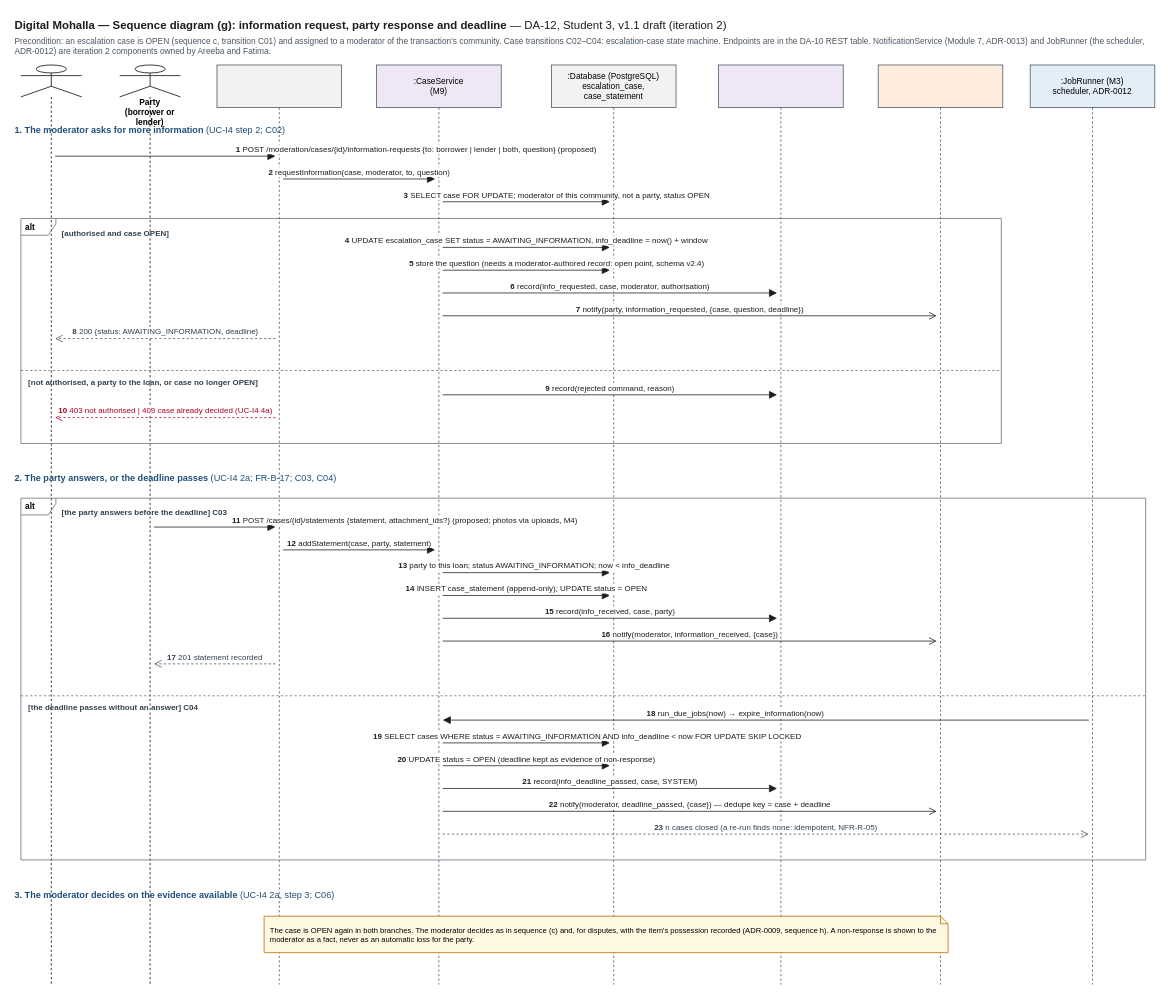
This 1168x998 diagram has some shape labels left out. Here are the shapes that lost their labels. From the top down, the box of each, then its label:
(20, 64, 82, 985): Moderator
(216, 64, 342, 985): :REST API
(718, 64, 843, 985): :AuditLogService (M9) audit_log, hash chain
(877, 64, 1003, 985): :NotificationService (M7) «INotify»
